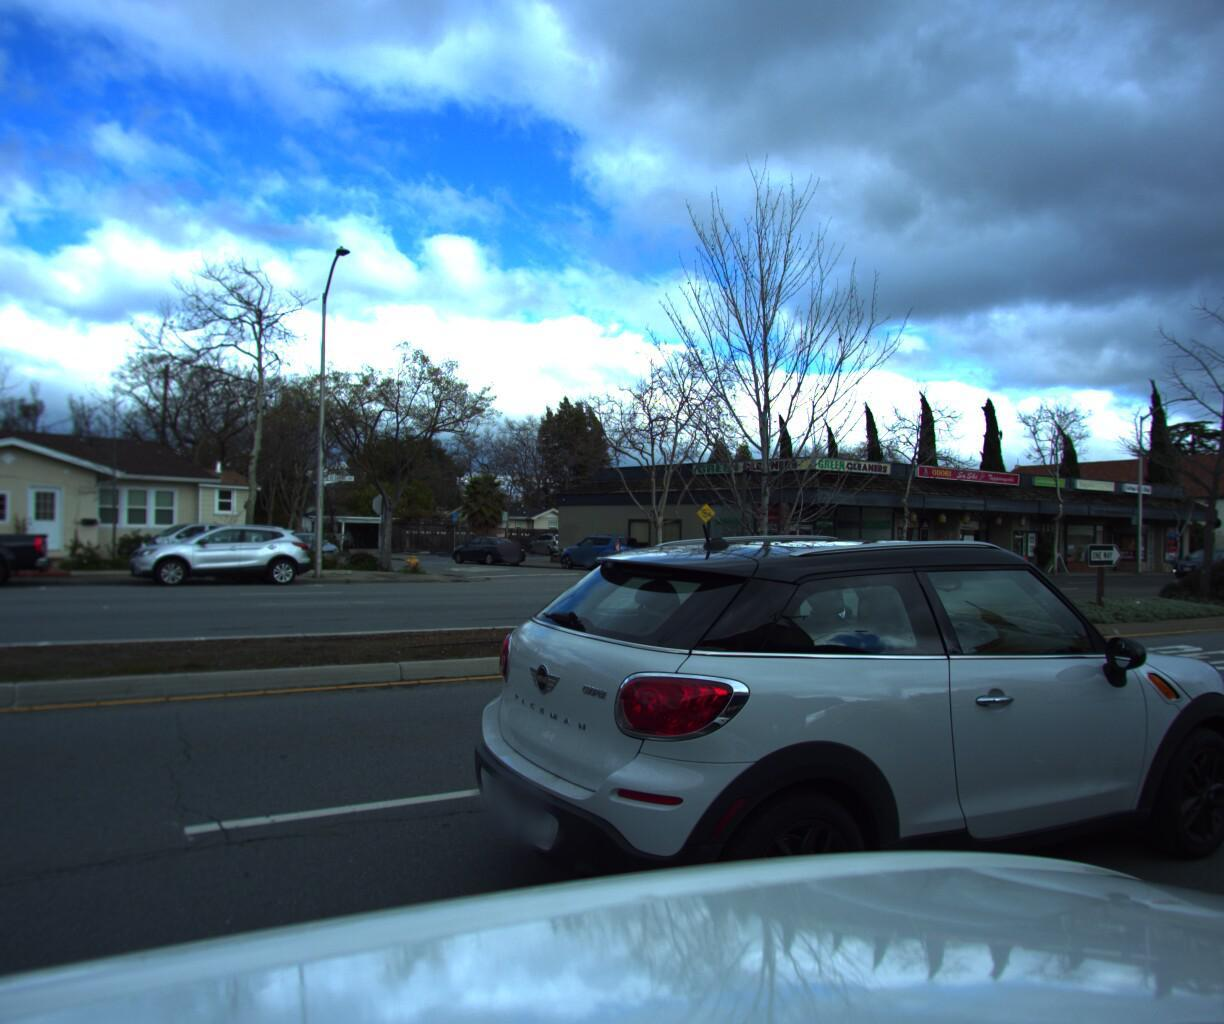car: (452, 511, 1224, 1024), (124, 519, 320, 586), (111, 519, 270, 571), (740, 534, 880, 582), (833, 538, 950, 580), (920, 540, 1033, 579), (549, 530, 647, 571), (267, 528, 346, 566), (446, 530, 529, 564), (1160, 538, 1224, 571)
